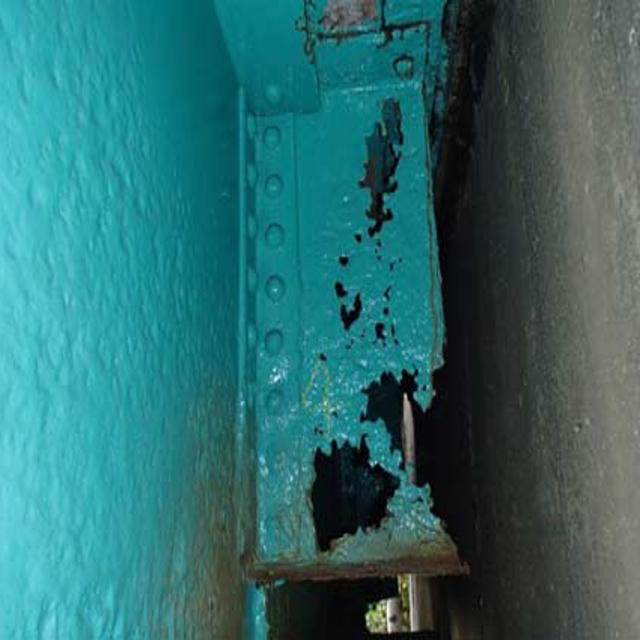corrosion: (307, 67, 494, 606)
